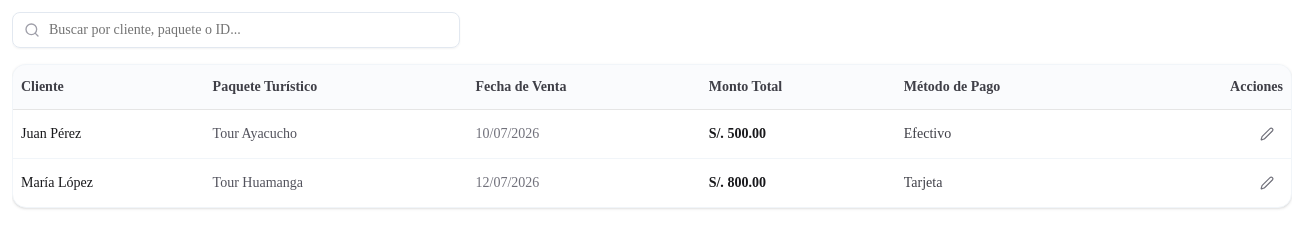
SaleTable › muestra mensaje cuando no hay resultados de búsqueda
The width and height of the screenshot is (1292, 226).
Type "ZZZZ" into the field with placeholder "Buscar por cliente, paquete o ID..." at (236, 30), box 12,12 -> 460,48
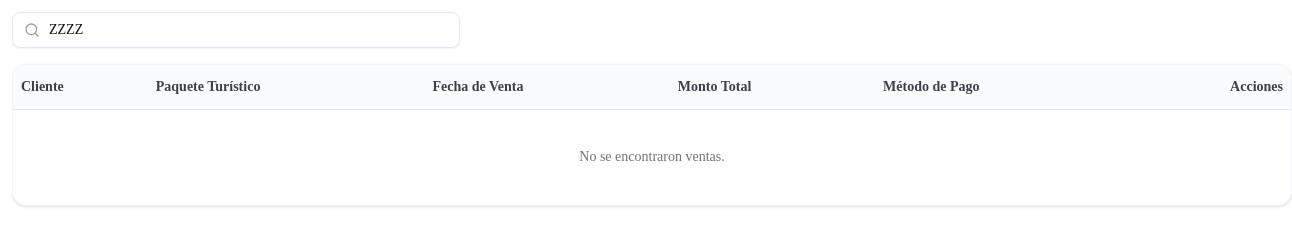
Result: the text "No se encontraron ventas." is shown at 13,109 -> 1291,205
